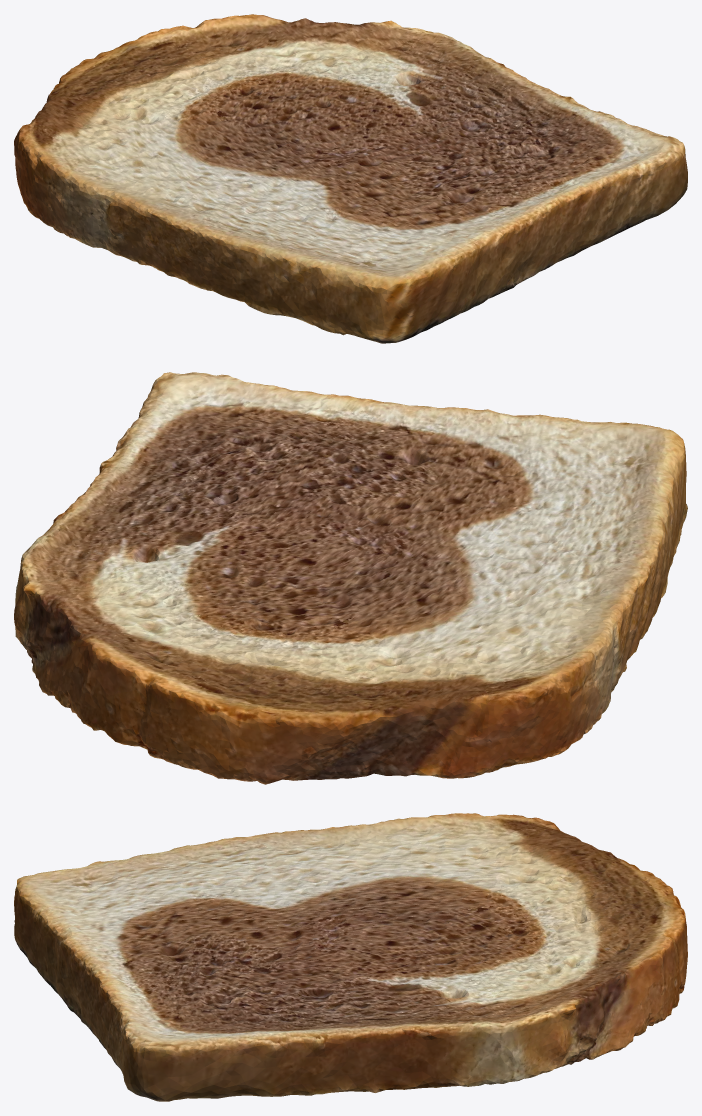
File: Marble_C.glb
3 views of the same model, one above another, from view 1: azimuth 30°, elevation 25°; view 2: azimuth 150°, elevation 25°; view 3: azimuth 270°, elevation 25° (orthographic). The views are drawn at different scales.
Size of the model in its own units: 0.1262 by 0.0182 by 0.1435.
Materials: 1 (1 with a texture image).
